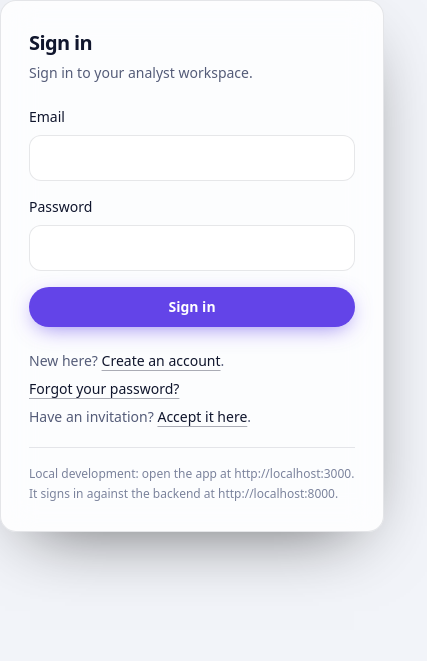
Test: sign-in screen › does not reach the network for an empty form
Click the button "Sign in". click: (192, 307)
box: [29,287,355,327]
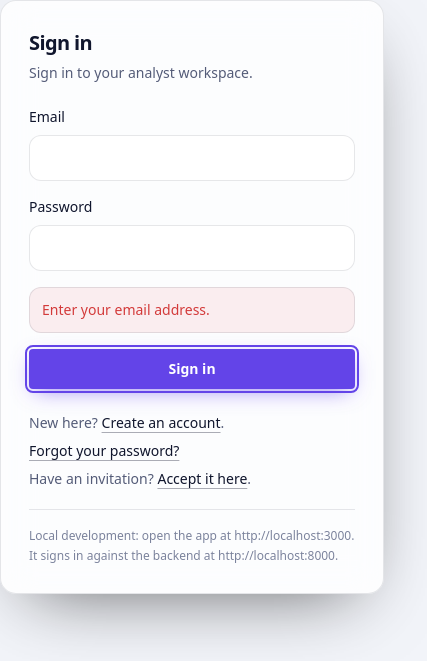
Now the message shows "Enter your email address", box [42,300,210,319]
